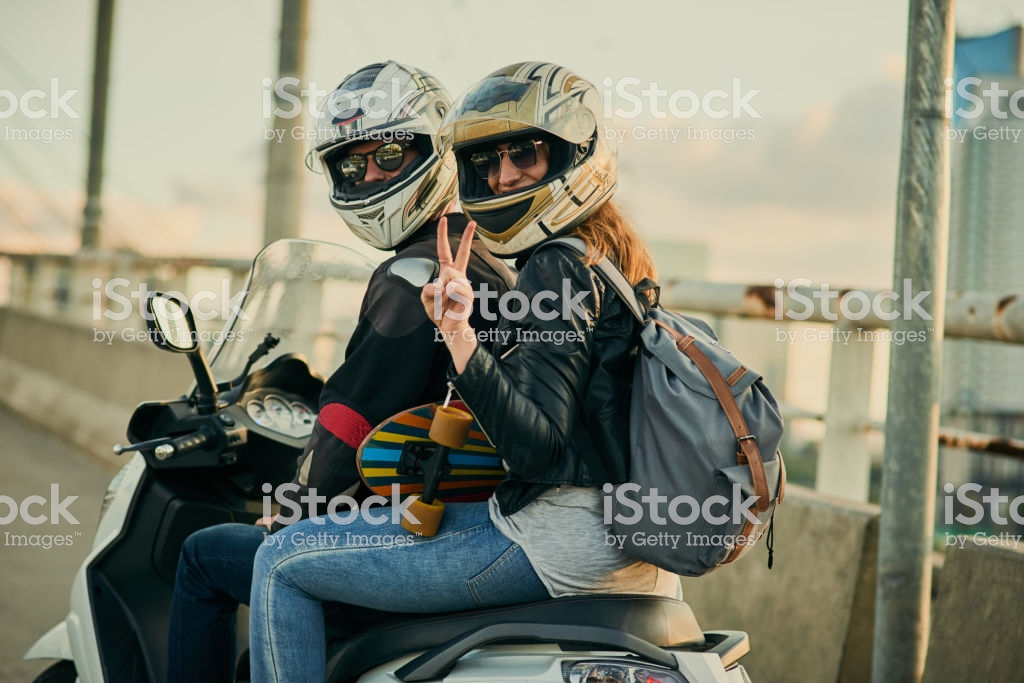helmet: (444, 66, 611, 242), (304, 63, 438, 256)
